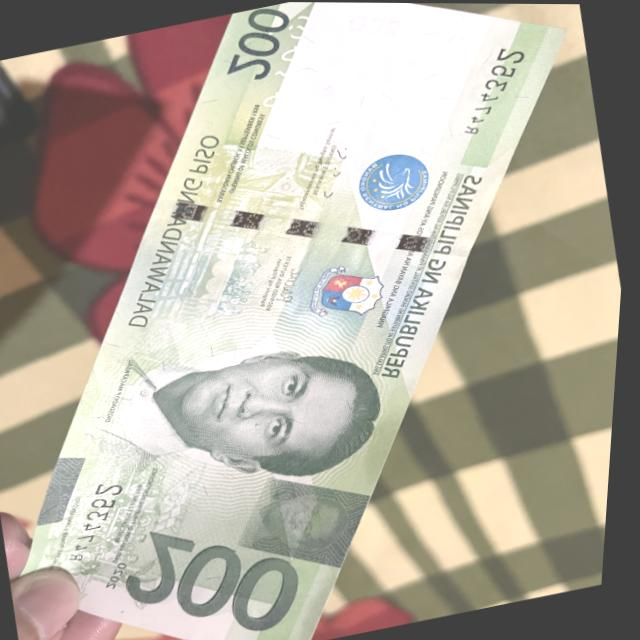concealed_value: (244, 476, 377, 567)
security_thread: (154, 197, 479, 257)
see_through_mark: (255, 9, 326, 117)
serial_number: (458, 43, 533, 139), (69, 480, 135, 565)
value: (122, 522, 323, 640)
value_watermark: (342, 10, 407, 38)
watermark: (257, 2, 518, 200)
